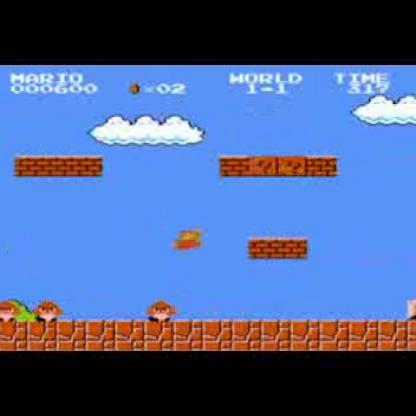Goomba: (147, 300, 178, 324), (35, 298, 65, 321), (0, 300, 20, 326)
